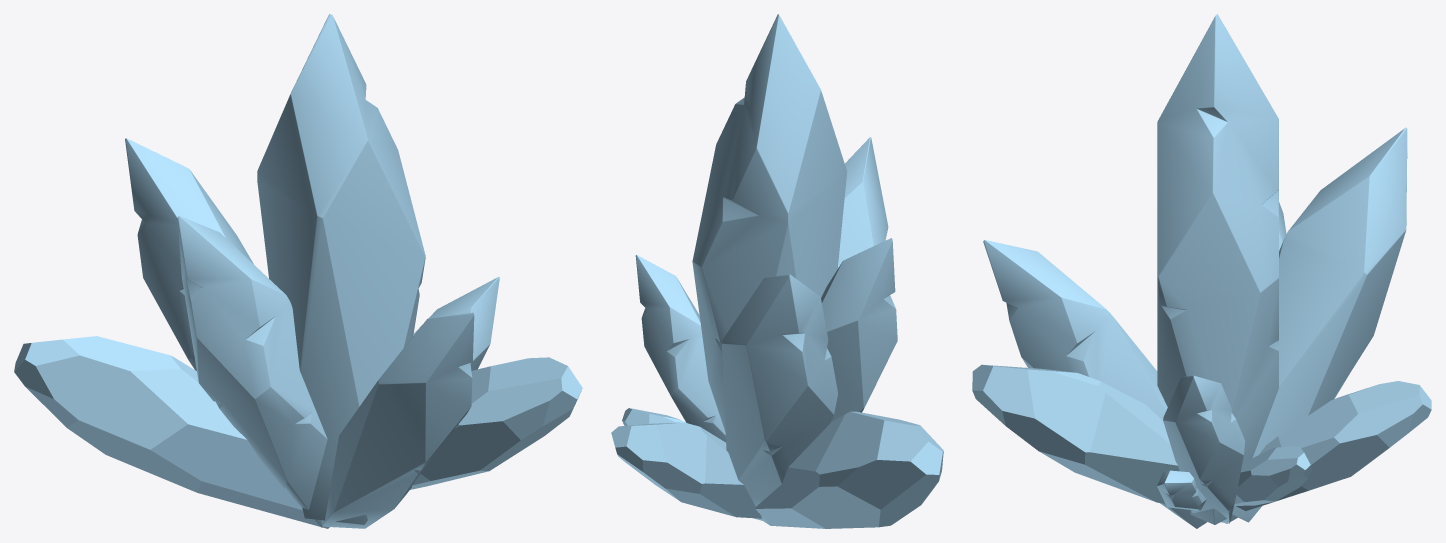
Rendered from crystal.fbx.
3 renders of one model, left to right at view 1: azimuth 30°, elevation 25°; view 2: azimuth 150°, elevation 25°; view 3: azimuth 270°, elevation 25°, orthographic.
Parts seen in each view (by area): view 1: Crystal, Cube.001, Crystal.004, Crystal.003, Cube.002, Crystal.005, Crystal.002; view 2: Crystal, Crystal.005, Cube.001, Crystal.004, Cube, Crystal.002, Crystal.003, Cube.003; view 3: Crystal, Crystal.005, Cube.002, Crystal.003, Cube, Crystal.002, Cube.003, Crystal.001.
Part boxes in pixels (<box>): Crystal: <box>257,14,425,524</box>; Cube.001: <box>14,336,329,528</box>; Crystal.004: <box>177,216,327,527</box>; Crystal.003: <box>321,312,474,528</box>; Cube.002: <box>410,357,582,489</box>; Crystal.005: <box>125,138,253,370</box>; Crystal.002: <box>413,277,499,370</box>; Crystal: <box>692,14,847,431</box>; Crystal.005: <box>722,274,838,522</box>; Cube.001: <box>755,411,943,528</box>; Crystal.004: <box>758,238,897,516</box>; Cube: <box>611,422,761,518</box>; Crystal.002: <box>635,255,725,442</box>; Crystal.003: <box>837,137,888,268</box>; Cube.003: <box>622,408,686,425</box>; Crystal: <box>1157,14,1278,524</box>; Crystal.005: <box>1232,127,1407,522</box>; Cube.002: <box>972,364,1179,503</box>; Crystal.003: <box>983,240,1206,528</box>; Cube: <box>1236,381,1431,510</box>; Crystal.002: <box>1163,375,1245,523</box>; Cube.003: <box>1234,446,1312,505</box>; Crystal.001: <box>1157,470,1206,510</box>.
Bounding box in the file's own units: 741 × 923 × 756.
